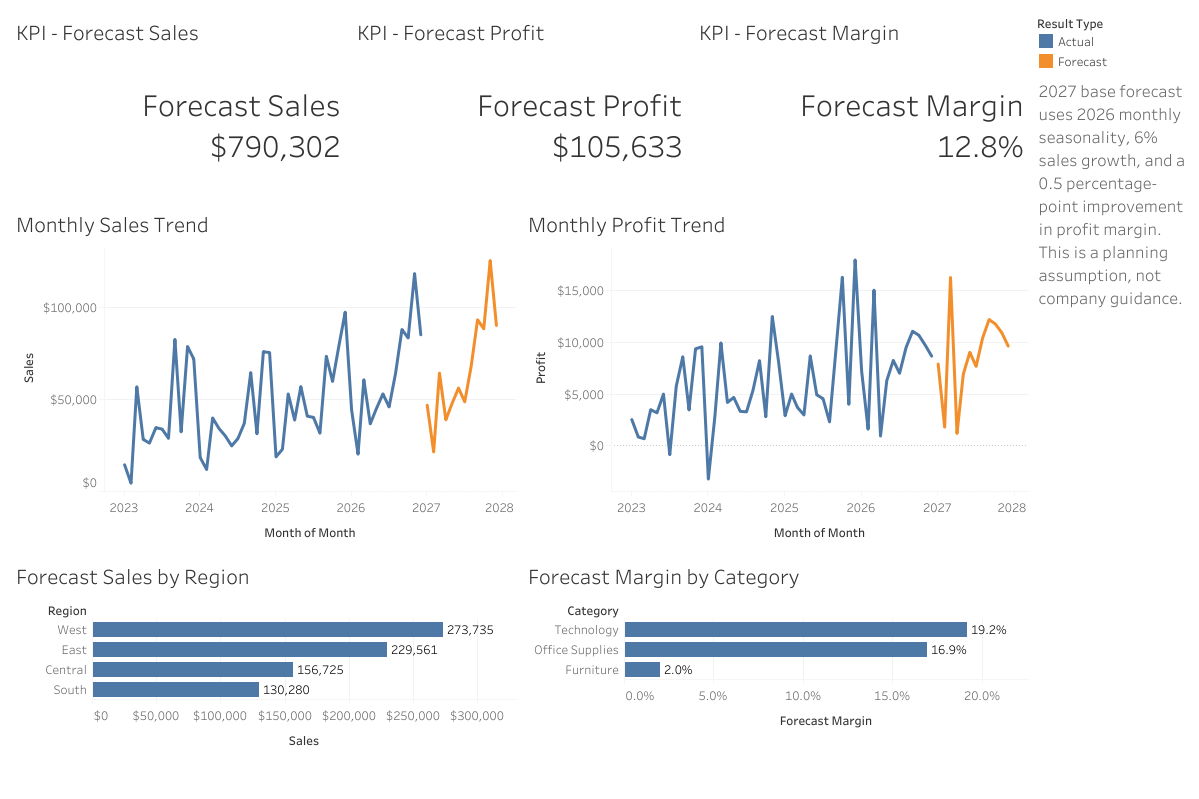

This screenshot's page, from the dashboard's own definition file:
{"tool":"tableau","page":{"name":"Forecast Outlook","canvas":[1200,800],"ordinal":2},"visuals":[{"type":"worksheet","title":"KPI - Forecast Sales","mark":"Automatic","box":[8,8,341.3,192]},{"type":"worksheet","title":"KPI - Forecast Profit","mark":"Automatic","box":[349.3,8,341.3,192]},{"type":"worksheet","title":"KPI - Forecast Margin","mark":"Automatic","box":[690.7,8,341.3,192]},{"type":"legend","title":"Monthly Sales Trend","param":"[federated.016e8wb0c0q5ky0zvar8s0clxv5w].[none:result_type:nk]","box":[1032,8,160,66]},{"type":"text","box":[1032,74,160,238]},{"type":"worksheet","title":"Monthly Sales Trend","mark":"Line","rows":["sales"],"cols":["month"],"box":[8,200,512,352]},{"type":"worksheet","title":"Monthly Profit Trend","mark":"Line","rows":["profit"],"cols":["month"],"box":[520,200,512,352]},{"type":"worksheet","title":"Forecast Sales by Region","mark":"Bar","rows":["region"],"cols":["sales"],"box":[8,552,512,240]},{"type":"worksheet","title":"Forecast Margin by Category","mark":"Bar","rows":["category"],"cols":["Calculation_2524798869843976"],"box":[520,552,512,240]}]}

Visuals, with their boxes in screenshot pixels (x1, y1, x2, y2), scaled from the page's 1200x800 canvas onto the 1199x799 screenshot:
"KPI - Forecast Sales" worksheet: crop(8, 8, 349, 200)
"KPI - Forecast Profit" worksheet: crop(349, 8, 690, 200)
"KPI - Forecast Margin" worksheet: crop(690, 8, 1031, 200)
"Monthly Sales Trend" legend: crop(1031, 8, 1191, 74)
text: crop(1031, 74, 1191, 312)
"Monthly Sales Trend" worksheet (Line marks): crop(8, 200, 520, 551)
"Monthly Profit Trend" worksheet (Line marks): crop(520, 200, 1031, 551)
"Forecast Sales by Region" worksheet (Bar marks): crop(8, 551, 520, 791)
"Forecast Margin by Category" worksheet (Bar marks): crop(520, 551, 1031, 791)
